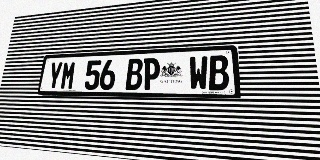5: (84, 60, 101, 90)
6: (99, 59, 116, 90)
B: (208, 55, 229, 90), (125, 58, 143, 90)
M: (60, 61, 77, 90)
P: (142, 58, 160, 90)
W: (189, 56, 208, 90)
Y: (46, 62, 63, 90)
